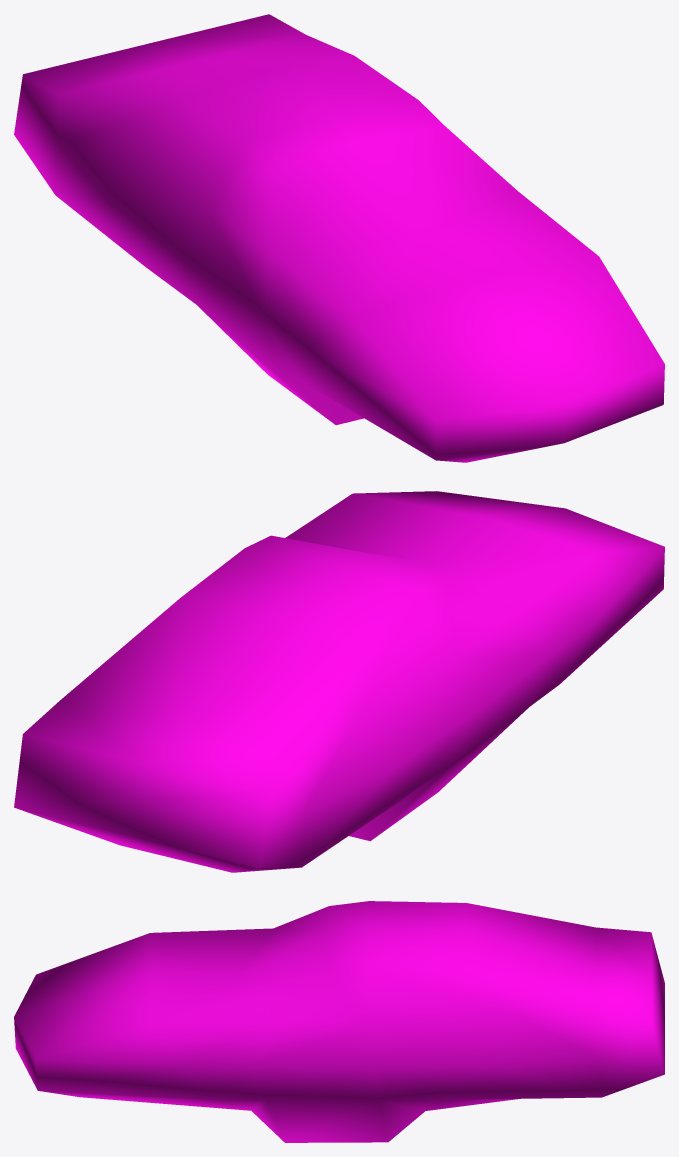
File: the_tiger_collider.FBX
The picture shows the model from 3 angles, top to bottom: view 1: azimuth 30°, elevation 25°; view 2: azimuth 150°, elevation 25°; view 3: azimuth 270°, elevation 25°; orthographic projection. The views are drawn at different scales.
Visible parts, largest first — view 1: collider; view 2: collider; view 3: collider.
Boxes of the visible parts, box(x1,y1,x2,y2) form: collider: box(14, 14, 664, 462); collider: box(14, 491, 664, 872); collider: box(14, 901, 664, 1142).
Size of the model in its own units: 1.94 by 1.65 by 5.
